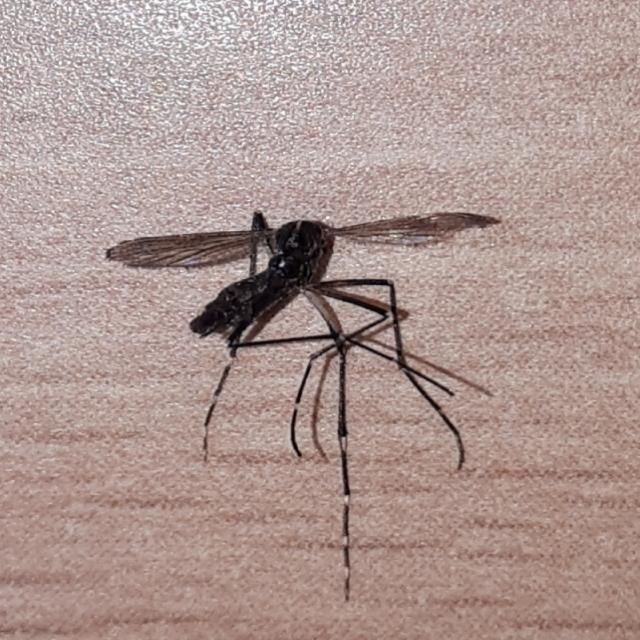albopictus: (124, 176, 500, 558)
